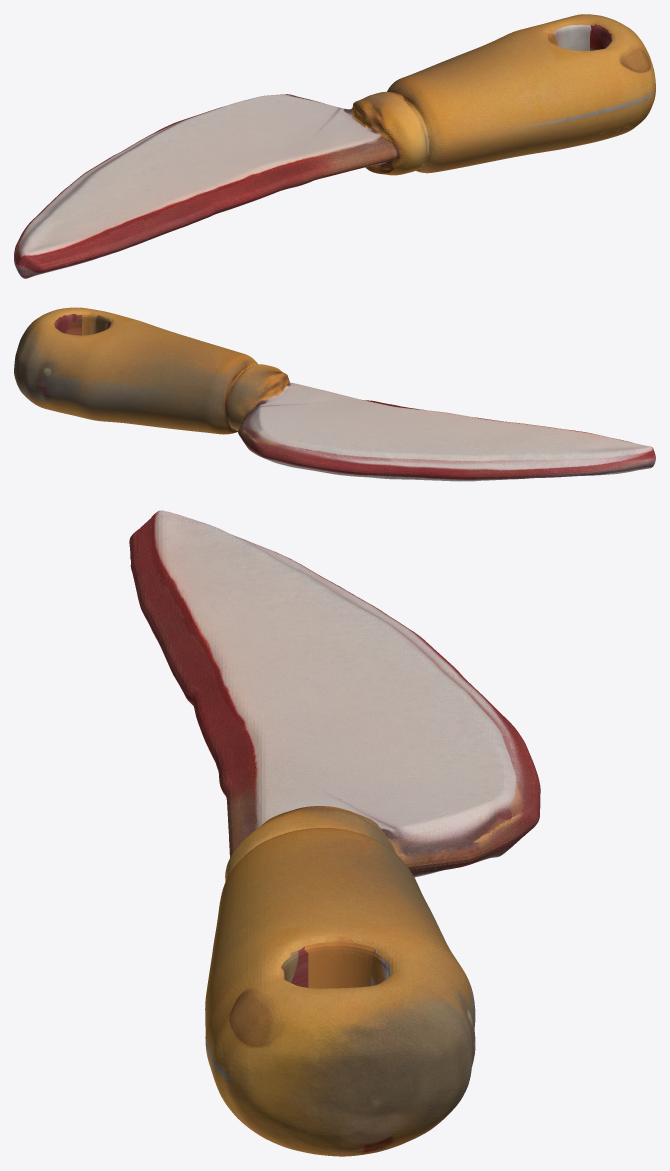
File: image_0003_segmented.glb
3 renders of one model, top to bottom at view 1: azimuth 30°, elevation 25°; view 2: azimuth 150°, elevation 25°; view 3: azimuth 270°, elevation 25°, orthographic. The views are drawn at different scales.
Parts seen in each view (by area): view 1: tmpcvnycgdq.ply; view 2: tmpcvnycgdq.ply; view 3: tmpcvnycgdq.ply.
Part boxes in pixels (x1,y1,x2,y2): tmpcvnycgdq.ply: (14,14,655,278); tmpcvnycgdq.ply: (14,307,655,481); tmpcvnycgdq.ply: (129,510,540,1156).
Size of the model in its own units: 1.99 by 0.2739 by 0.6074.
Materials: 1 (1 with a texture image).
